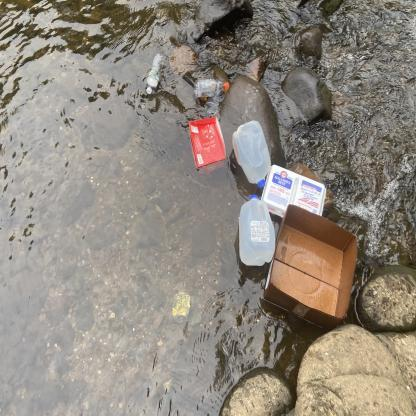trash: (257, 200, 362, 336), (259, 160, 327, 226), (234, 188, 278, 271), (228, 117, 272, 190), (186, 117, 230, 176), (143, 50, 168, 101), (191, 74, 233, 102)
